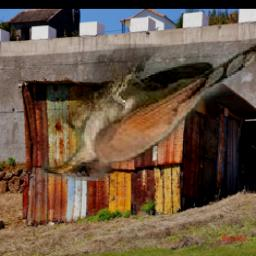Cuckoo: (42, 45, 256, 182)
